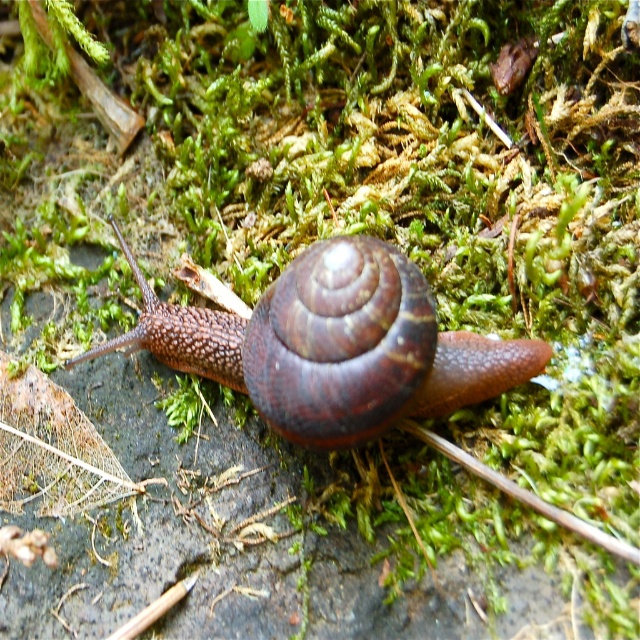Snail: (64, 213, 551, 448)
